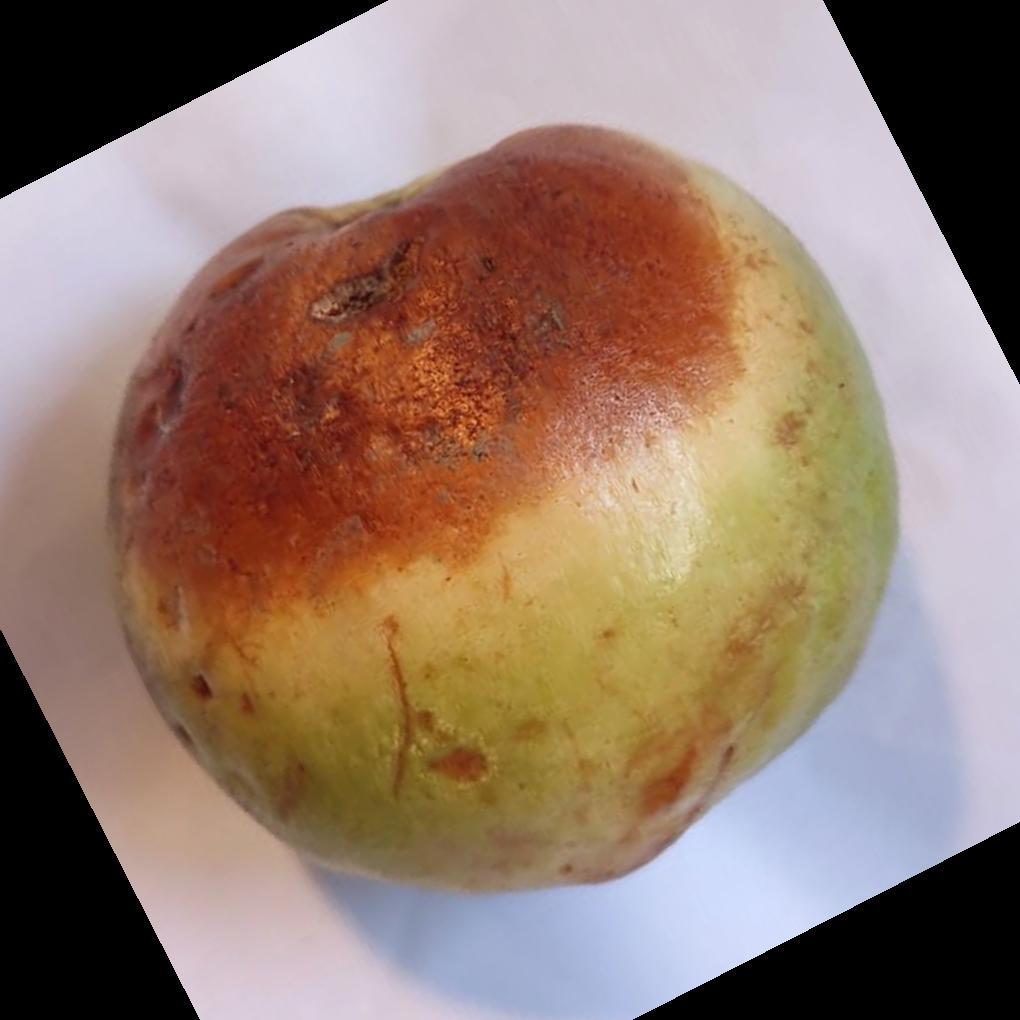FreshOrange: (103, 124, 902, 900)
